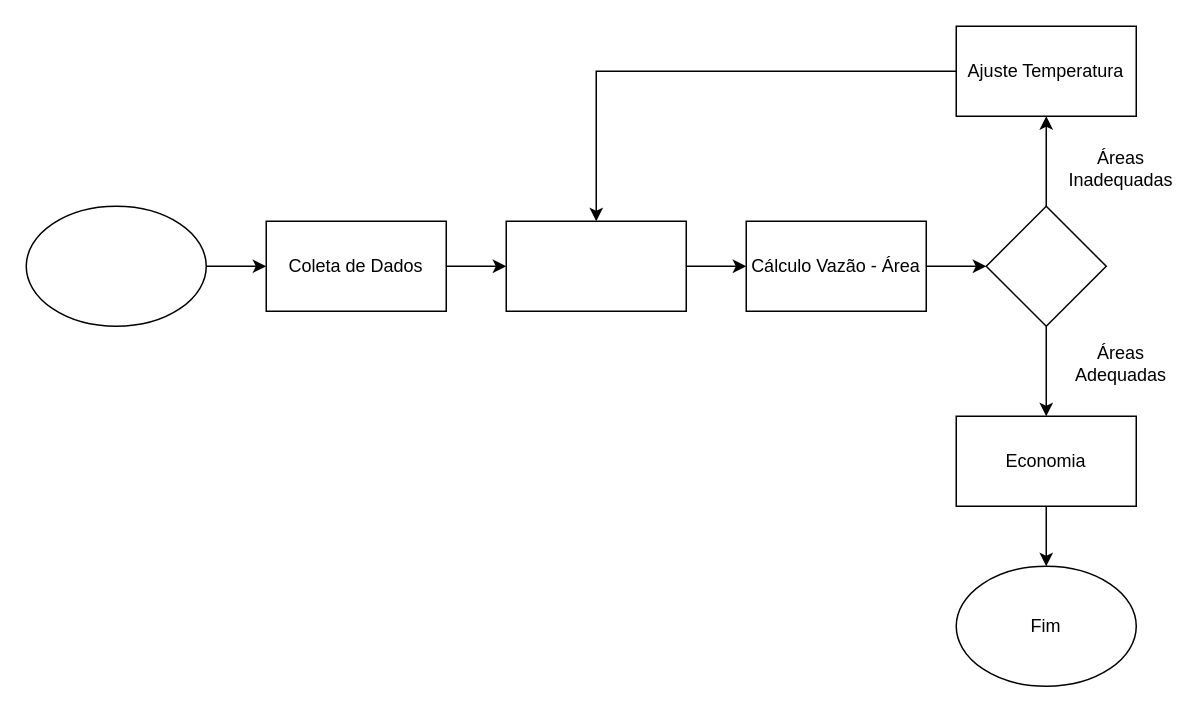
This 1199x713 diagram has some shape labels left out. Here are the shapes that lost their labels. From the top down, the box of each, then its label:
(25, 205, 206, 326): Início
(505, 220, 686, 311): Cálculos iniciais
(985, 205, 1106, 326): Avaliação
